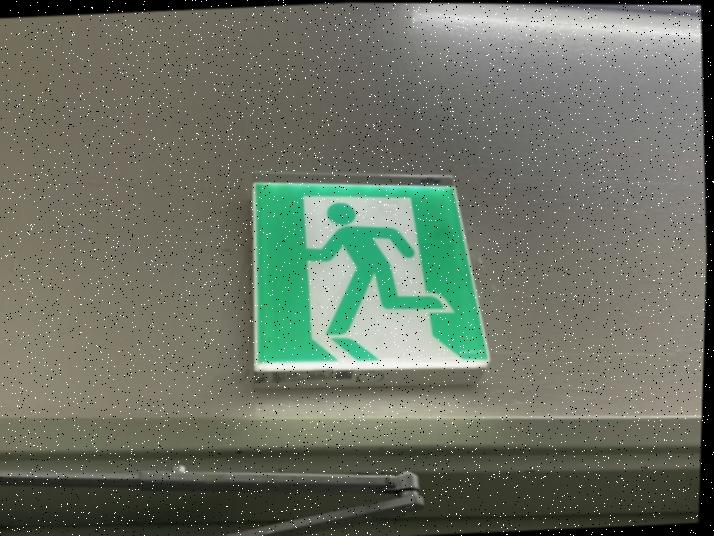emergency_exit: (251, 178, 490, 375)
